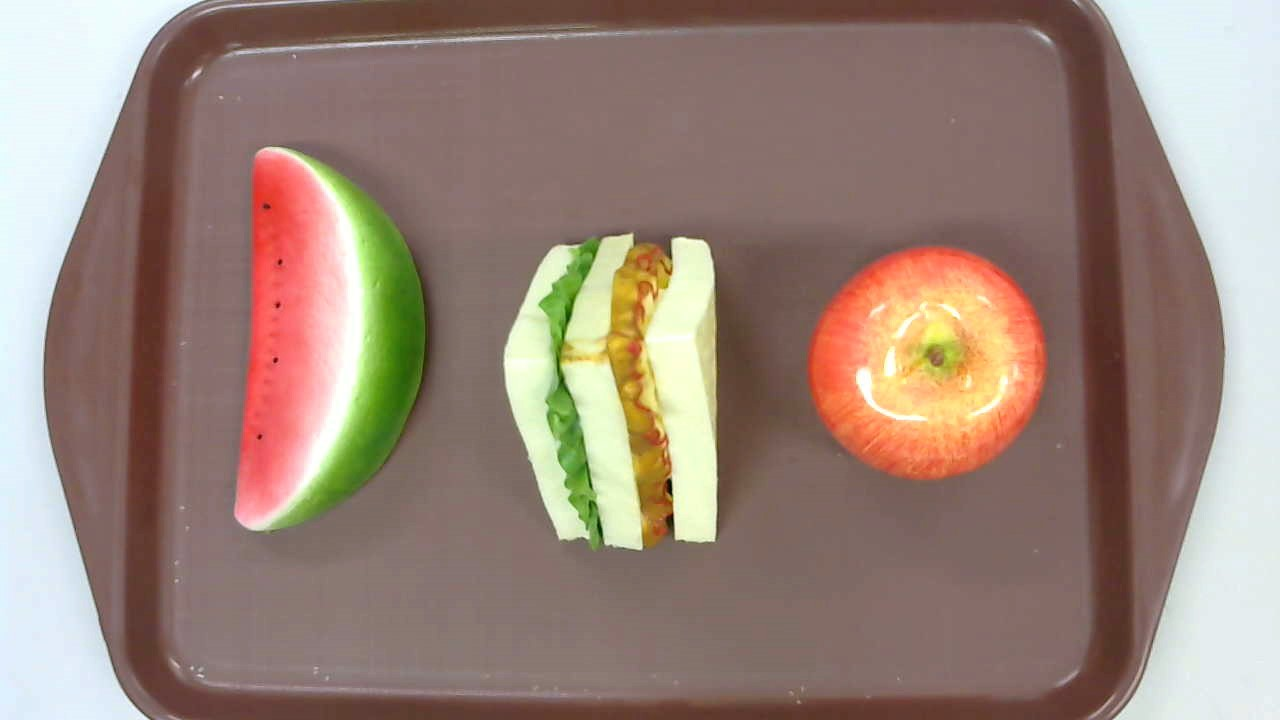red apple: (807, 245, 1047, 483)
sandwich: (503, 231, 720, 552)
water melon: (233, 144, 424, 533)
